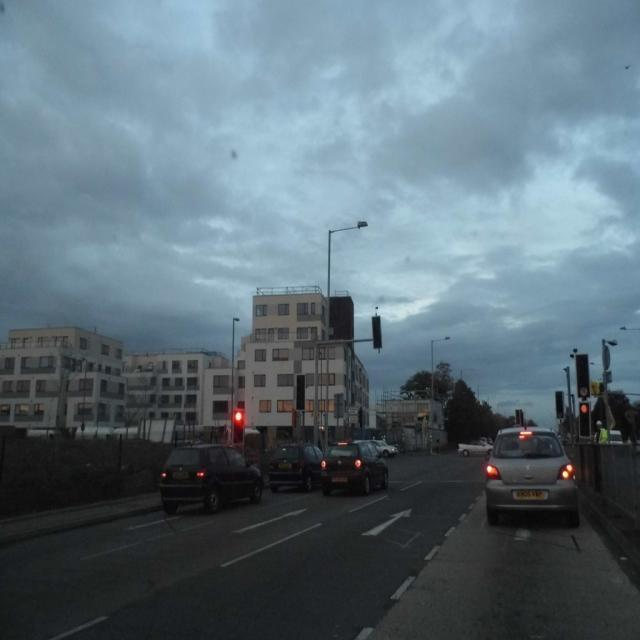off traffic light: (577, 353, 590, 398), (295, 375, 306, 411), (371, 316, 382, 349)
traffic light: (232, 410, 244, 443), (580, 403, 590, 437)
